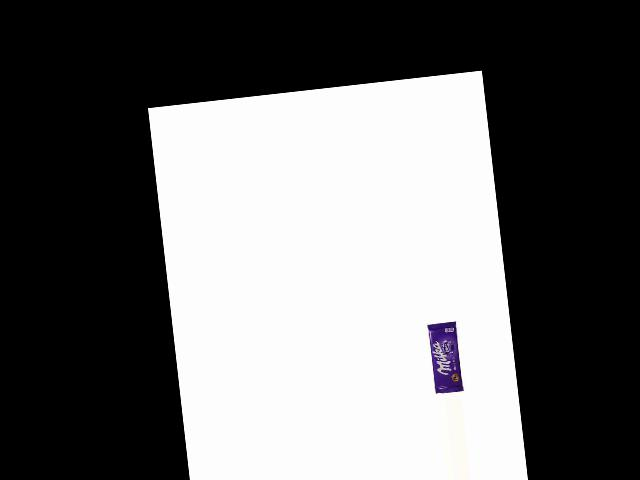chocolate: (425, 317, 467, 394)
